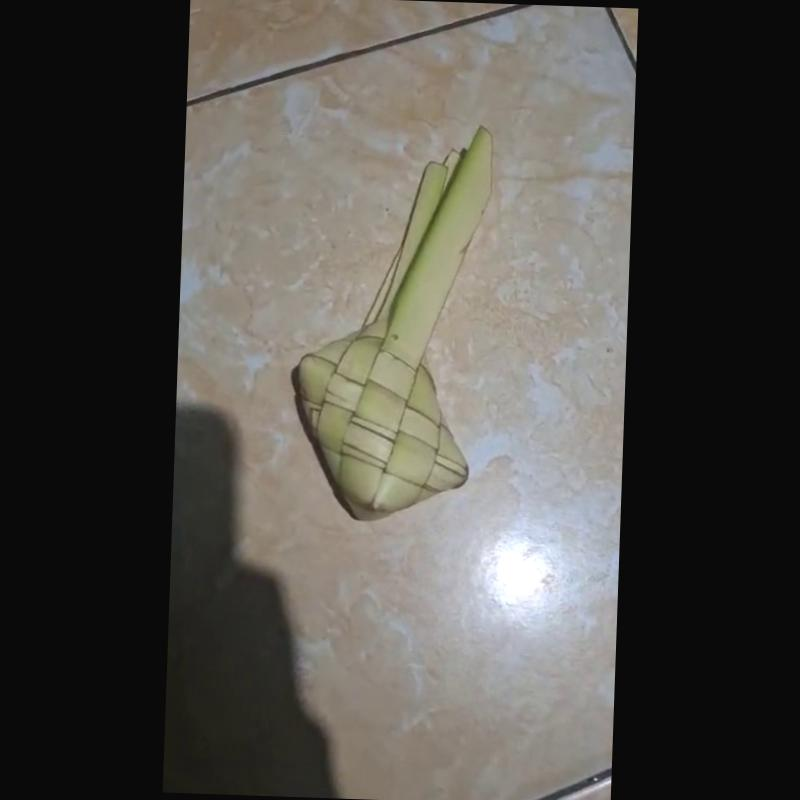Tipat Bantal: (289, 127, 494, 530)
